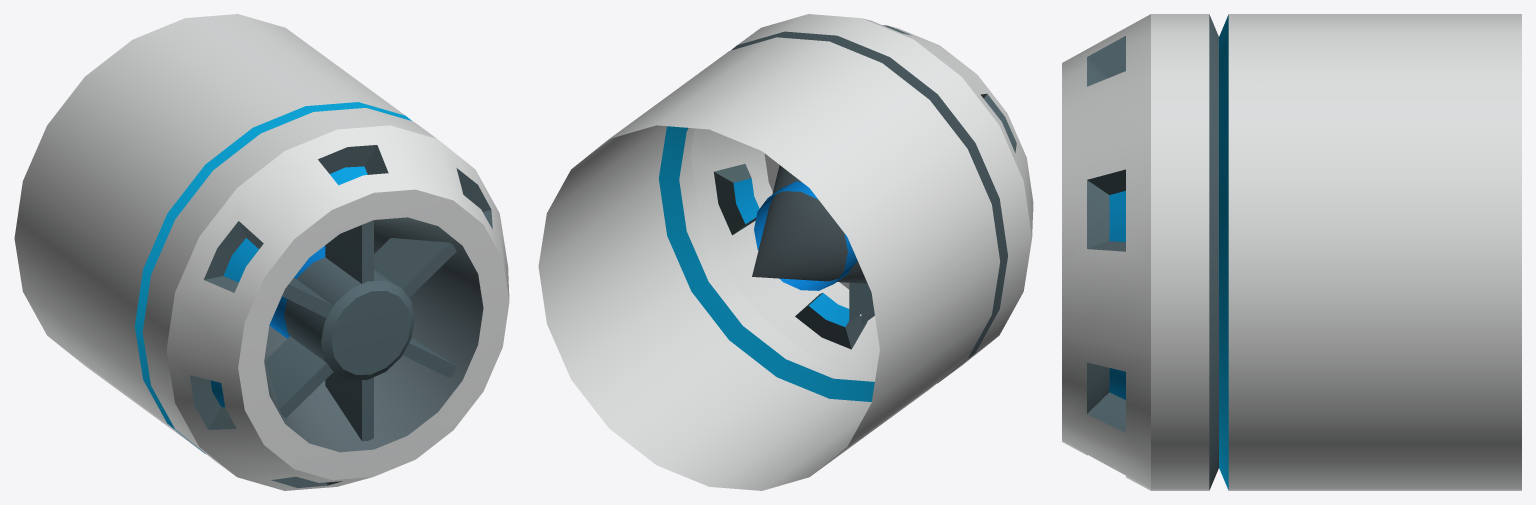
File: Generator_rotor_007.fbx
3 renders of one model, left to right at view 1: azimuth 30°, elevation 25°; view 2: azimuth 150°, elevation 25°; view 3: azimuth 270°, elevation 25°, orthographic. The views are drawn at different scales.
Visible parts, largest first — view 1: Generator_rotor_007; view 2: Generator_rotor_007; view 3: Generator_rotor_007.
Boxes of the visible parts, left/top/right/bottom form: Generator_rotor_007: left=14, top=14, right=509, bottom=490; Generator_rotor_007: left=538, top=14, right=1033, bottom=490; Generator_rotor_007: left=1062, top=14, right=1521, bottom=490.
Bounding box in the file's own units: 97.3 × 93.08 × 97.3.
